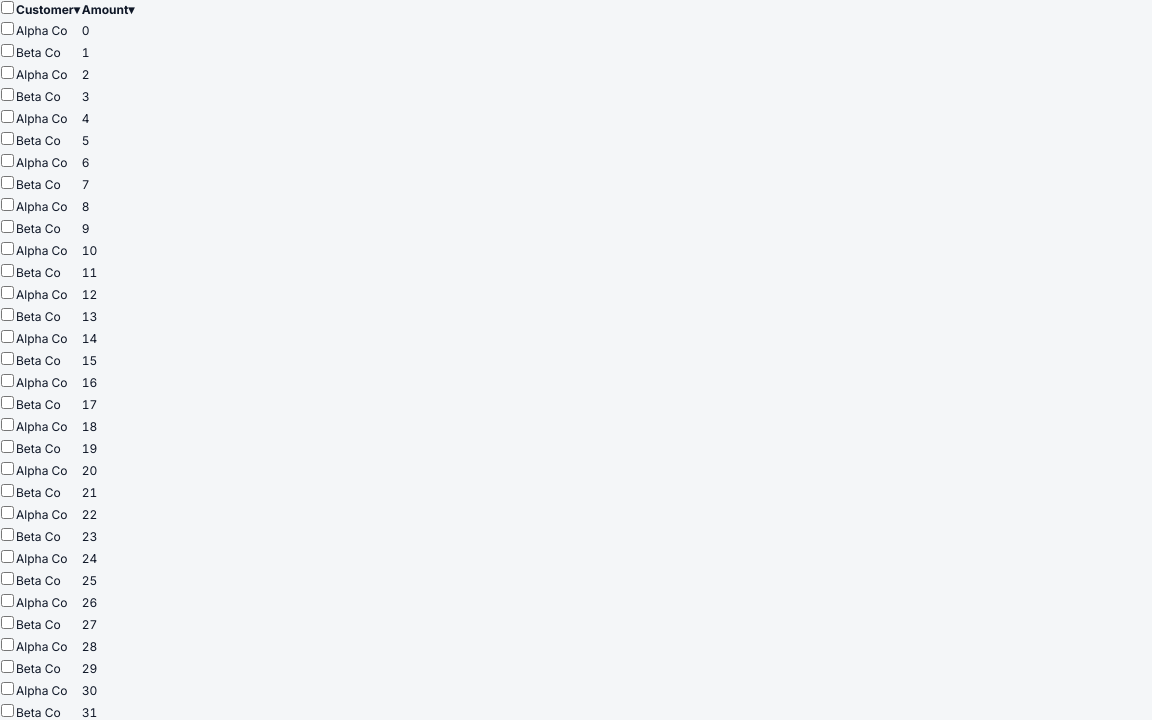
shared ERP table › keeps full matching report rows visible and available to export without a 25-row page cut
Step 1. Click the button named "Filter Customer" → (77, 10), box [74,1,80,19]
(page scrolled)
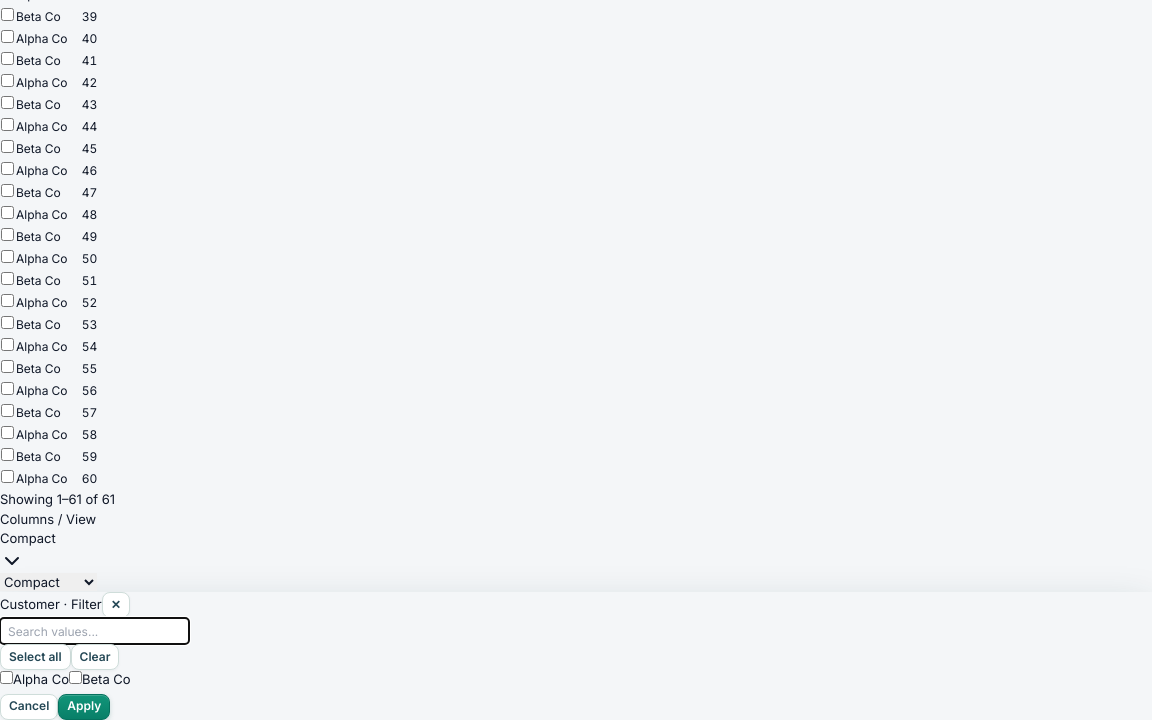
Step 2. Click the checkbox labelled "Beta Co" → (76, 678), box [69,671,82,684]
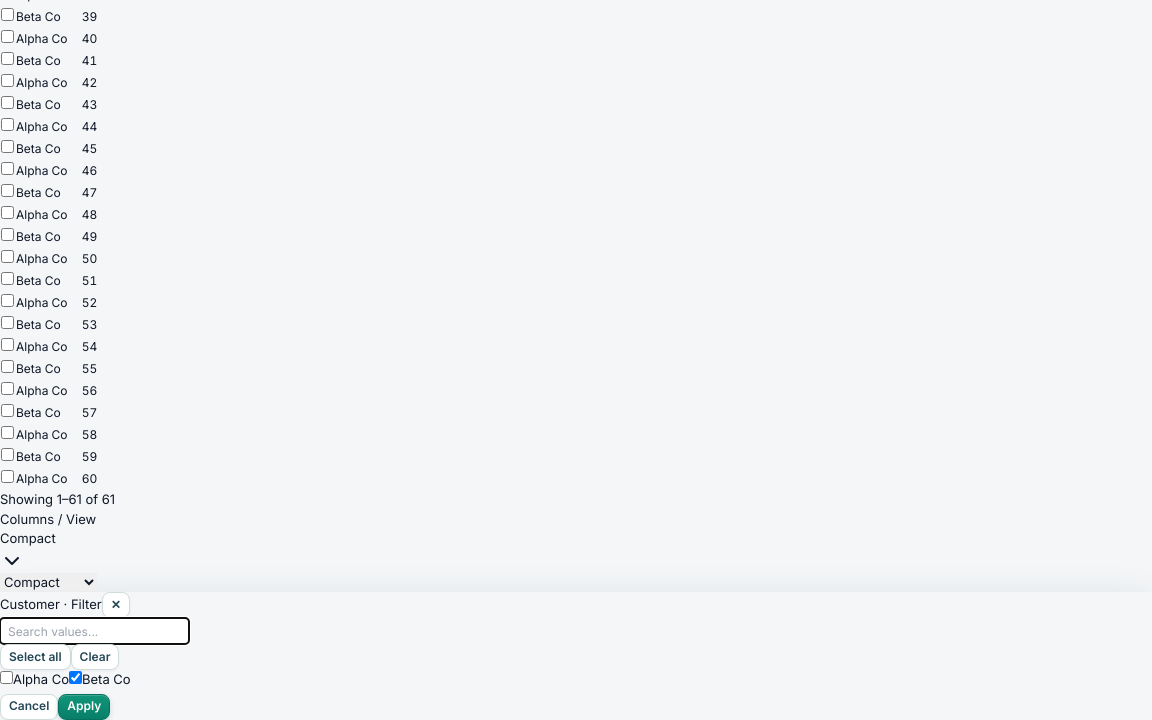
Step 3. Click the button "Apply" → (84, 706), box [58,694,110,719]
(page scrolled)
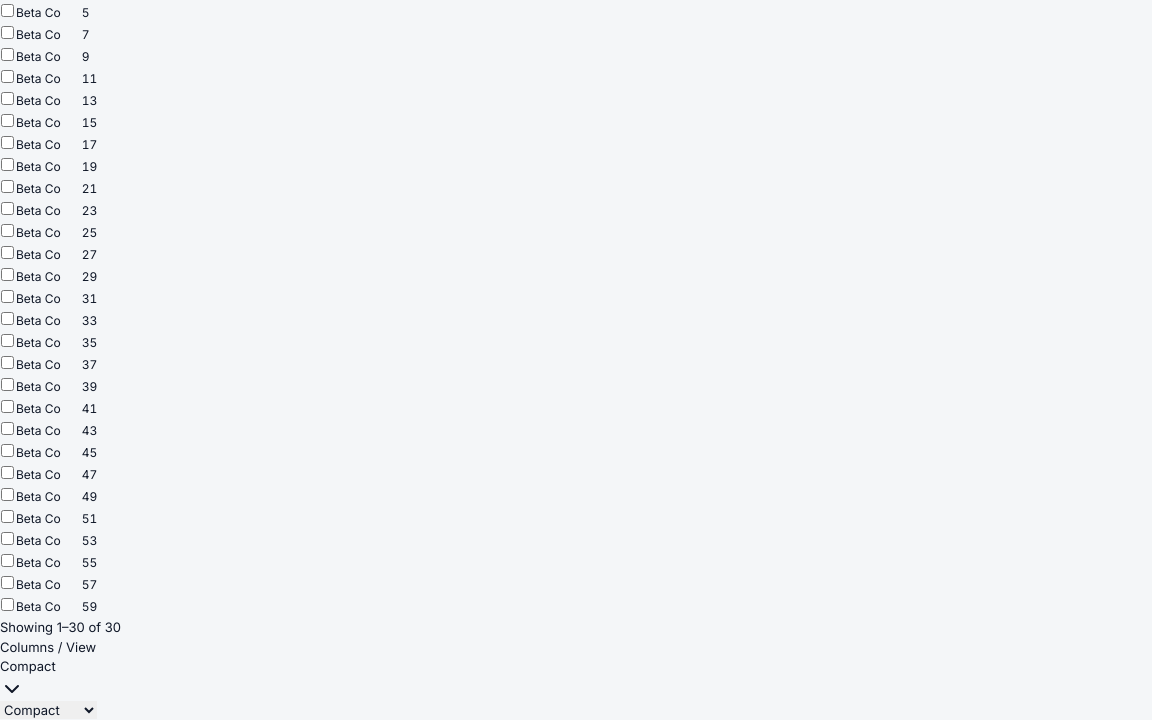
Result: the text "Showing 1–30 of 30" is shown at [0,619,121,635]
